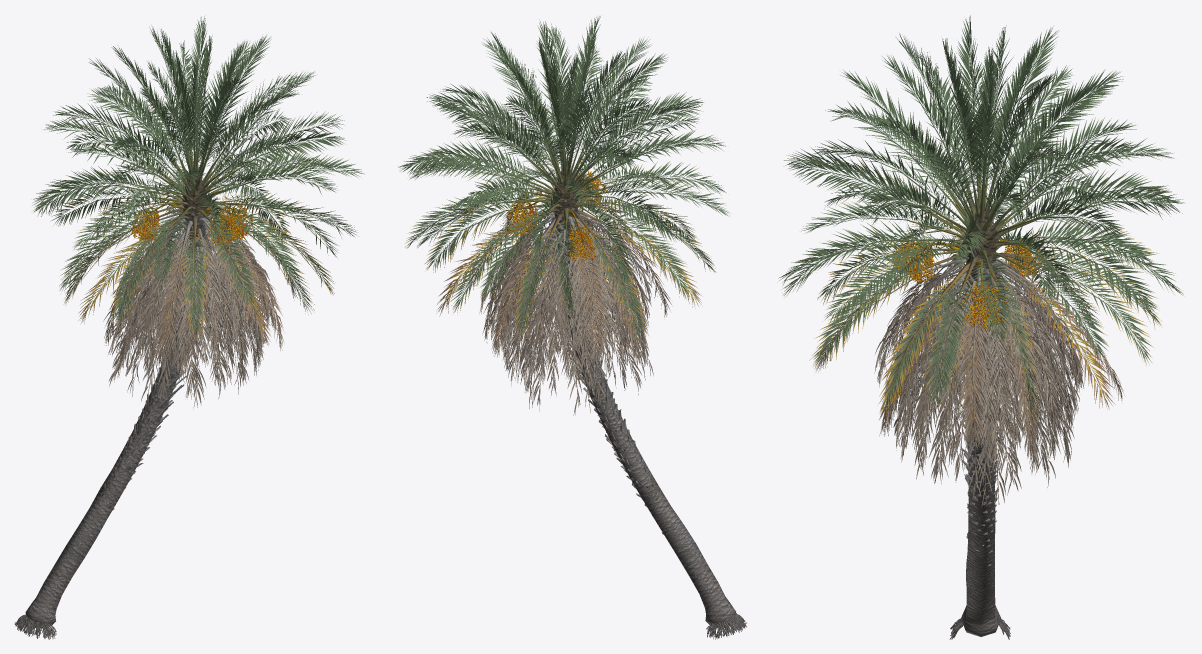
File: Phoenix dactylifera HD_Curved mat 75_LOD3.fbx
The picture shows the model from 3 angles, left to right: view 1: azimuth 30°, elevation 25°; view 2: azimuth 150°, elevation 25°; view 3: azimuth 270°, elevation 25°; orthographic projection. The views are drawn at different scales.
Visible parts, largest first — view 1: Phoenix_dactylifera_HD; view 2: Phoenix_dactylifera_HD; view 3: Phoenix_dactylifera_HD.
Part boxes in pixels (left/top/right/bottom): Phoenix_dactylifera_HD: left=14, top=16, right=363, bottom=639; Phoenix_dactylifera_HD: left=398, top=16, right=746, bottom=639; Phoenix_dactylifera_HD: left=778, top=15, right=1184, bottom=639.
Size of the model in its own units: 8.26 by 13.35 by 7.19.
Materials: 18 (18 with a texture image).
